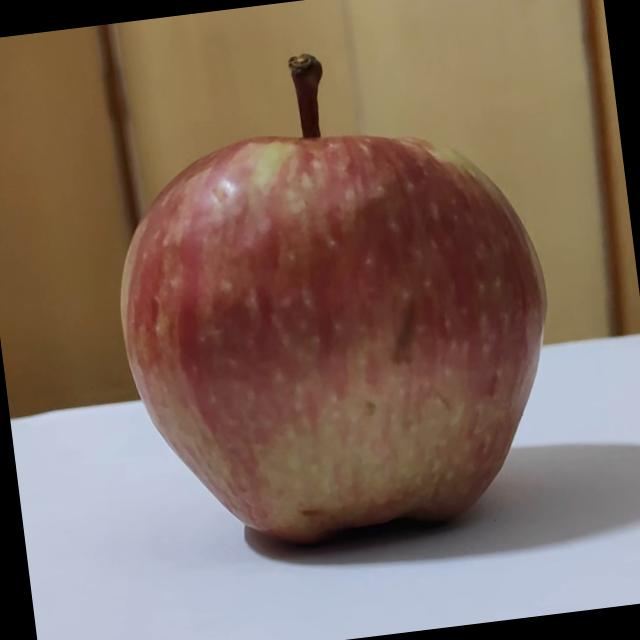apple: (88, 24, 576, 564)
